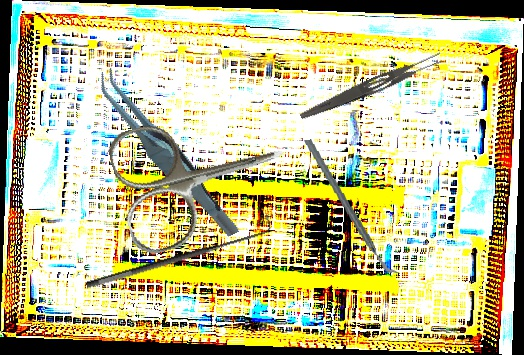Chopper: (303, 129, 399, 284)
Dressing Forceps: (298, 48, 445, 127)
Hook Surgical: (81, 213, 277, 292)
Iris Scissors: (104, 93, 300, 259)
Tissue Forceps: (93, 48, 241, 259)
